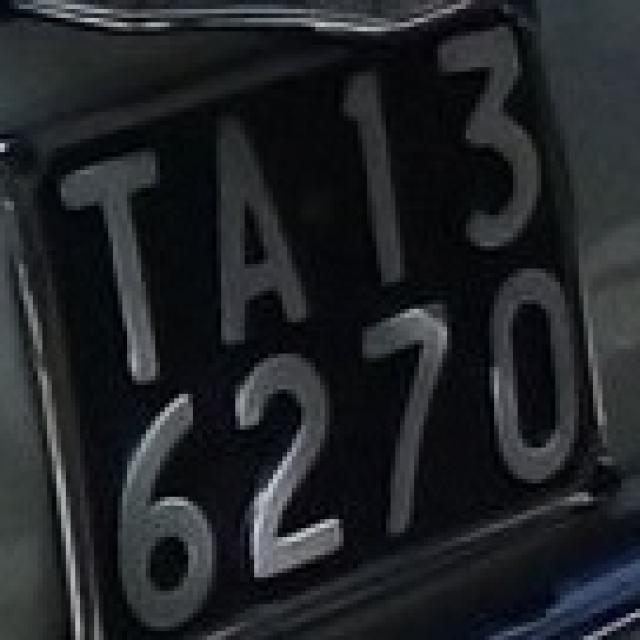0: (466, 251, 588, 483)
1: (315, 54, 414, 286)
2: (212, 336, 353, 578)
3: (419, 13, 546, 246)
6: (89, 376, 226, 636)
7: (338, 286, 462, 532)
A: (184, 98, 316, 350)
T: (43, 134, 184, 385)
